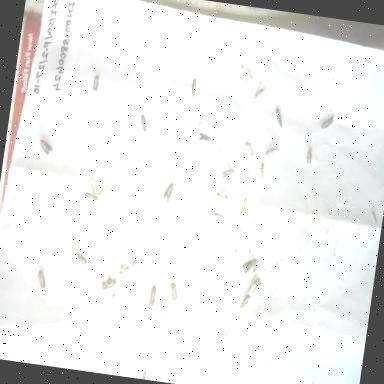pbw: (156, 178, 178, 207), (238, 254, 259, 277), (86, 72, 106, 96), (144, 281, 160, 311), (32, 266, 50, 292), (34, 137, 57, 157), (319, 110, 338, 134), (70, 250, 92, 270), (98, 272, 120, 292), (84, 175, 103, 198), (240, 136, 258, 160), (186, 76, 204, 100), (272, 104, 288, 130), (236, 194, 252, 220), (252, 81, 270, 104), (96, 182, 116, 202), (166, 278, 182, 303), (134, 111, 150, 135), (194, 128, 215, 146), (262, 140, 282, 158), (218, 164, 237, 182), (256, 160, 270, 184), (238, 291, 253, 312), (212, 188, 232, 203), (81, 189, 99, 205), (250, 277, 265, 296), (302, 146, 316, 166), (367, 208, 380, 228)
